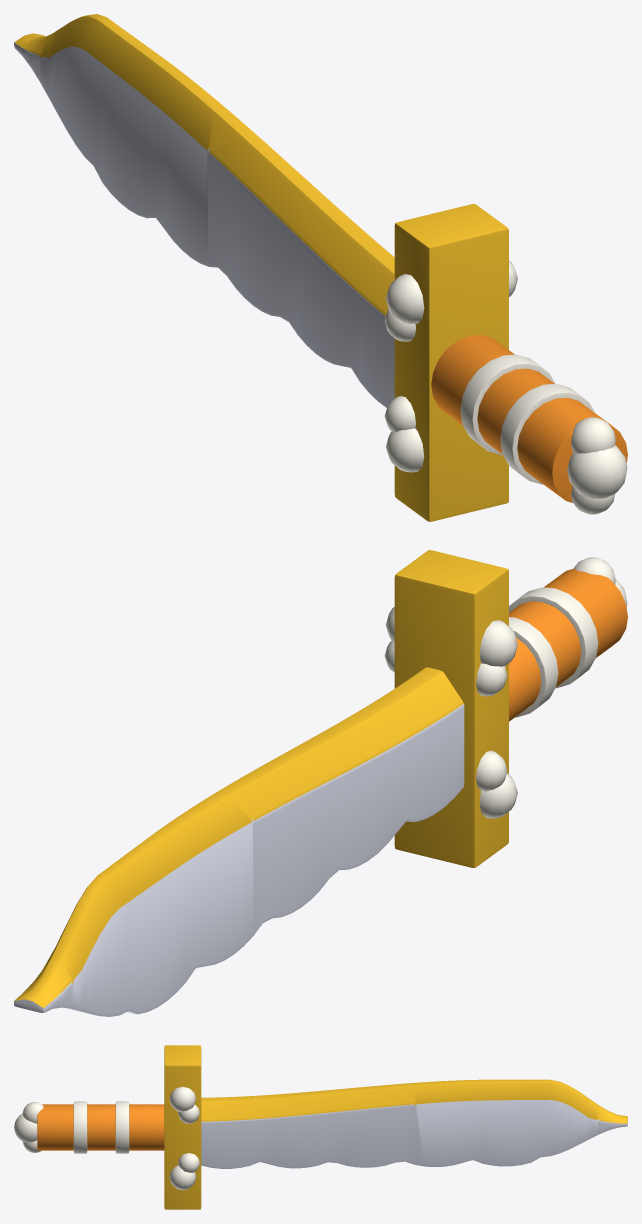
The model's file is Sword_CloudcutFalchion.glb.
3 views of the same model, one above another, from view 1: azimuth 30°, elevation 25°; view 2: azimuth 150°, elevation 25°; view 3: azimuth 270°, elevation 25° (orthographic). The views are drawn at different scales.
Parts seen in each view (by area): view 1: Sword_CloudcutFalchion; view 2: Sword_CloudcutFalchion; view 3: Sword_CloudcutFalchion.
Part boxes in pixels (x1,y1,x2,y2): Sword_CloudcutFalchion: (14,14,627,521); Sword_CloudcutFalchion: (14,550,627,1016); Sword_CloudcutFalchion: (14,1045,627,1209).
Bounding box in the file's own units: 0.124 × 0.26 × 1.
Materials: 1 (1 with a texture image).
